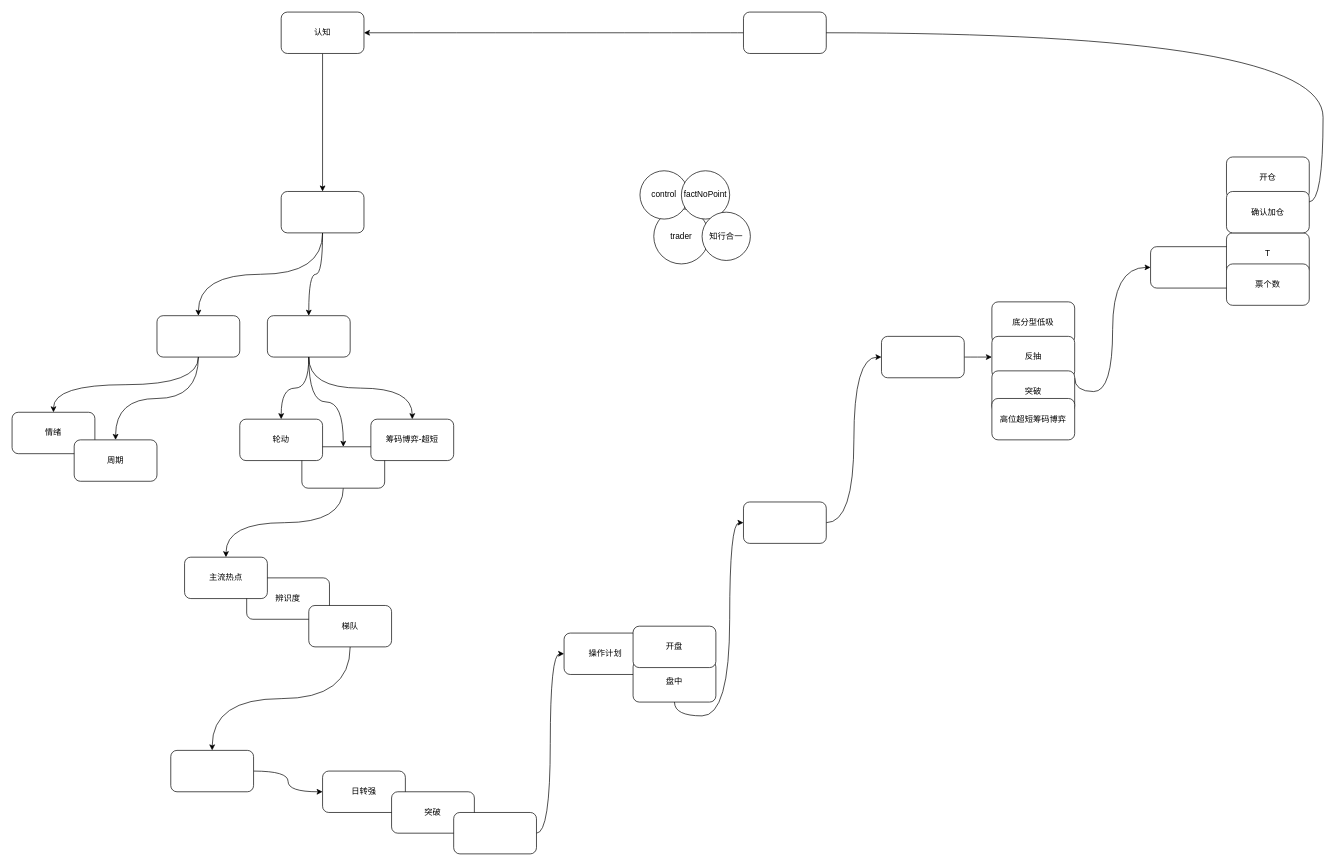
Image size: 1335x866. Some labels were removed from this diagram. The shapes that lost their labels are listed below. From the top down, each one's centre as x and y in pixels, then its label:
the point at 784,32: 复盘
the point at 322,212: 理解力-交易世界观
the point at 1191,267: 仓位管理
the point at 198,336: 大局观
the point at 308,336: 因果关系
the point at 922,357: 手法
the point at 343,467: 消息
the point at 784,522: 预期差
the point at 212,771: 技术形态
the point at 494,833: 顶底分型
